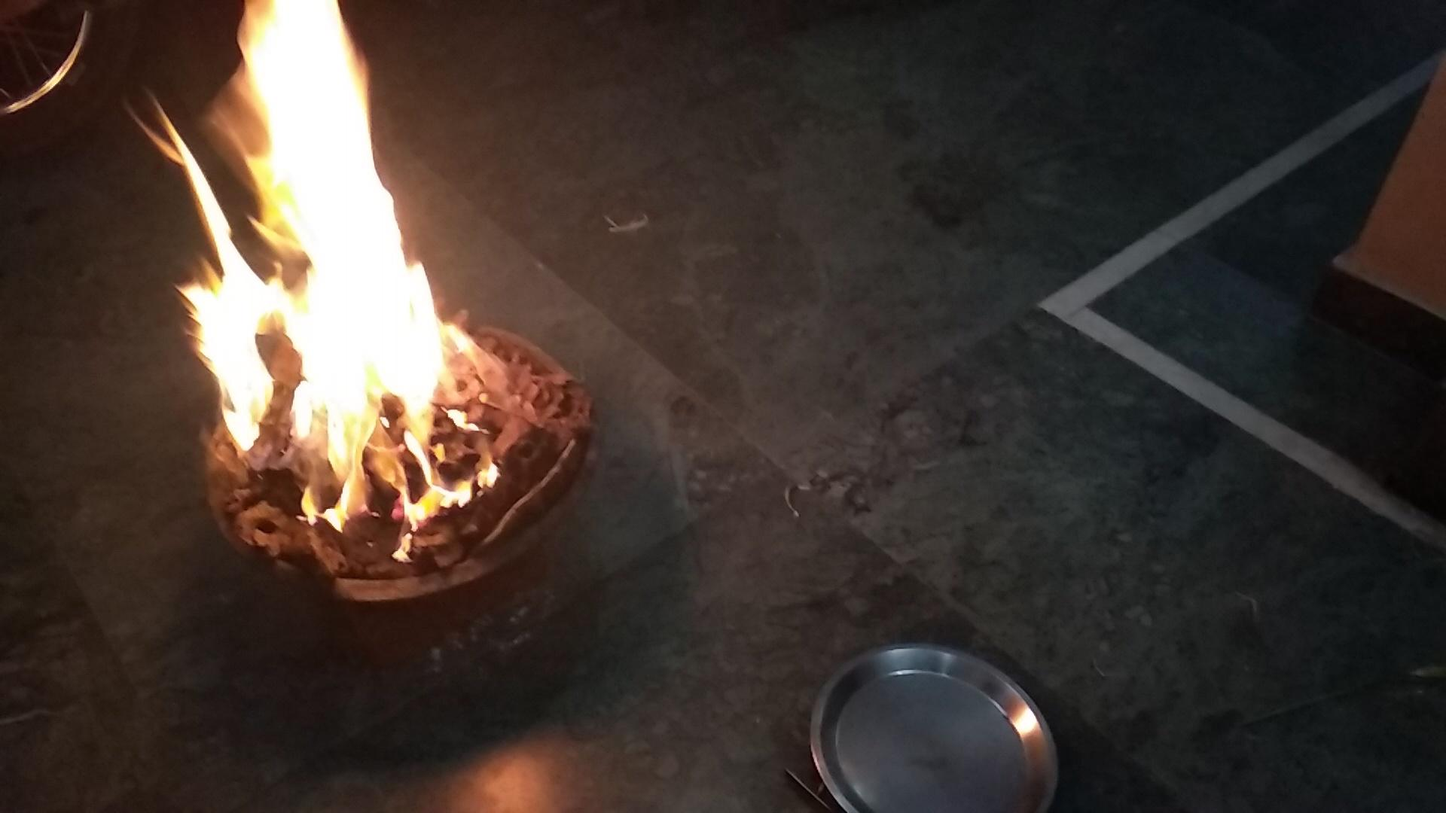fire: (139, 0, 493, 550)
